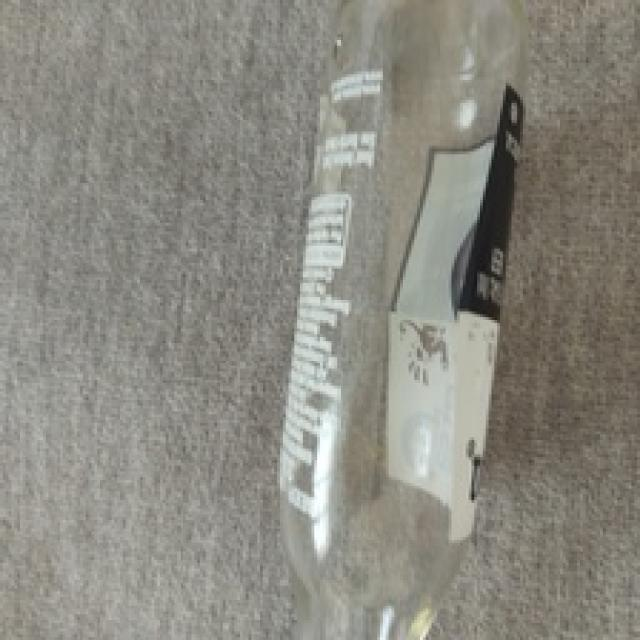Glass: (282, 0, 532, 640)
